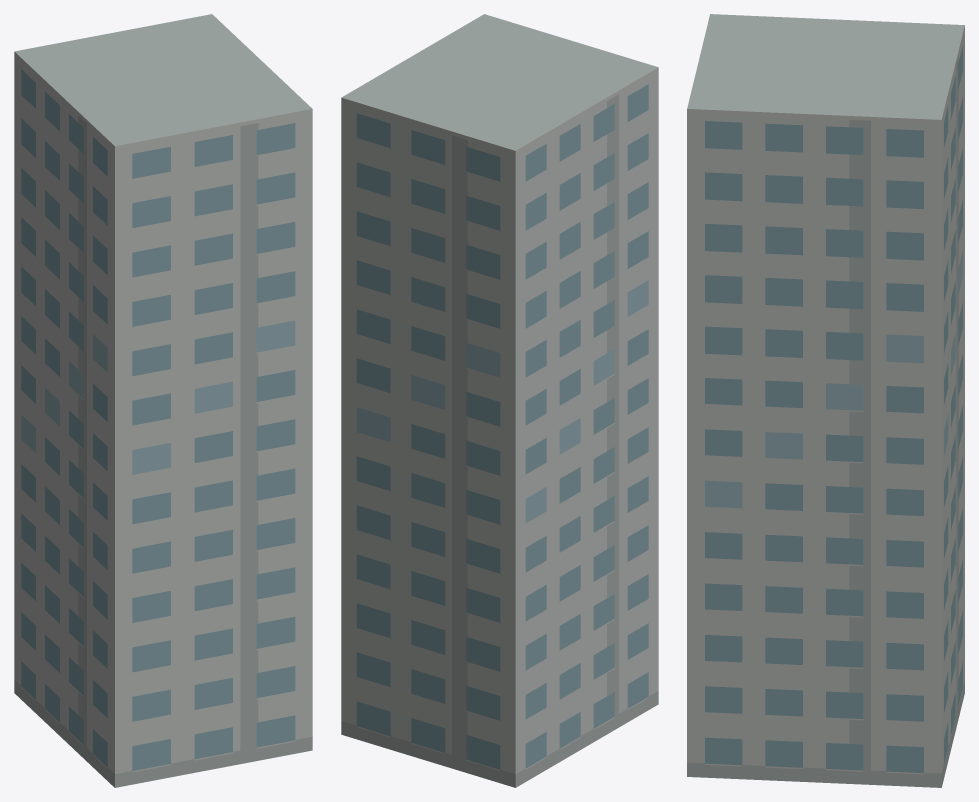
The model's file is residential-a28aedcf-1557-4054-8579-b2549574ad39.glb.
3 views of the same model, side by side, from view 1: azimuth 30°, elevation 25°; view 2: azimuth 150°, elevation 25°; view 3: azimuth 270°, elevation 25° (orthographic). The views are drawn at different scales.
Visible parts, largest first — view 1: residential-a28aedcf-1557-4054-8579-b2549574ad39.tmp; view 2: residential-a28aedcf-1557-4054-8579-b2549574ad39.tmp; view 3: residential-a28aedcf-1557-4054-8579-b2549574ad39.tmp.
Boxes of the visible parts, <box> form: residential-a28aedcf-1557-4054-8579-b2549574ad39.tmp: <box>14,14,312,787</box>; residential-a28aedcf-1557-4054-8579-b2549574ad39.tmp: <box>341,14,658,787</box>; residential-a28aedcf-1557-4054-8579-b2549574ad39.tmp: <box>687,14,964,787</box>.
Size of the model in its own units: 13.95 by 41 by 15.46.
